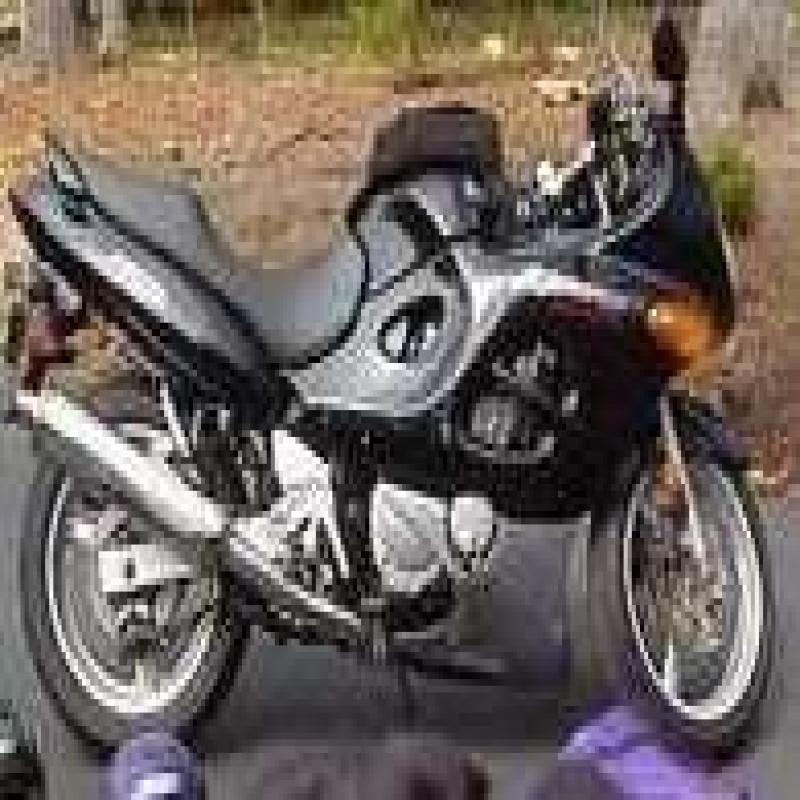bike: (3, 30, 787, 756)
